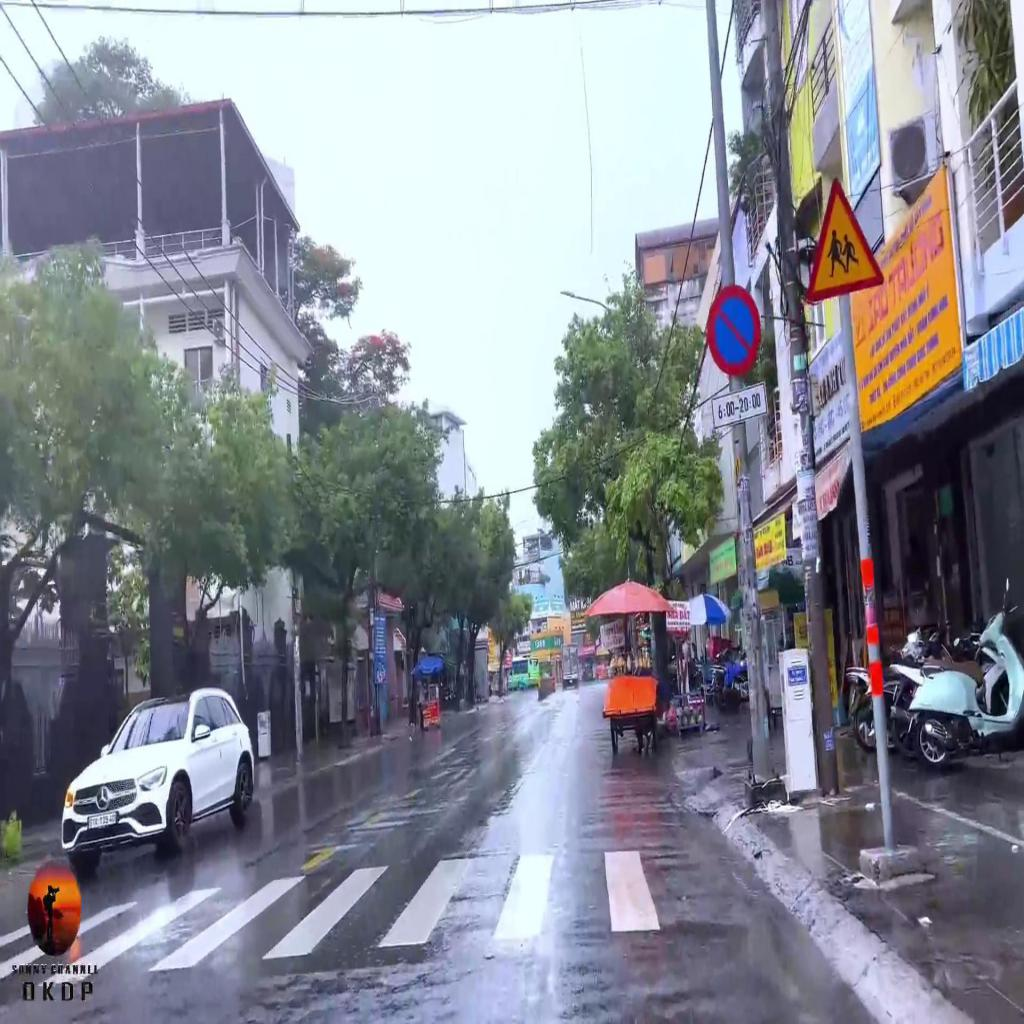cam_do_xe: (707, 284, 760, 376)
chu_y_tre_em: (806, 176, 884, 300)
khac: (712, 382, 768, 430)
